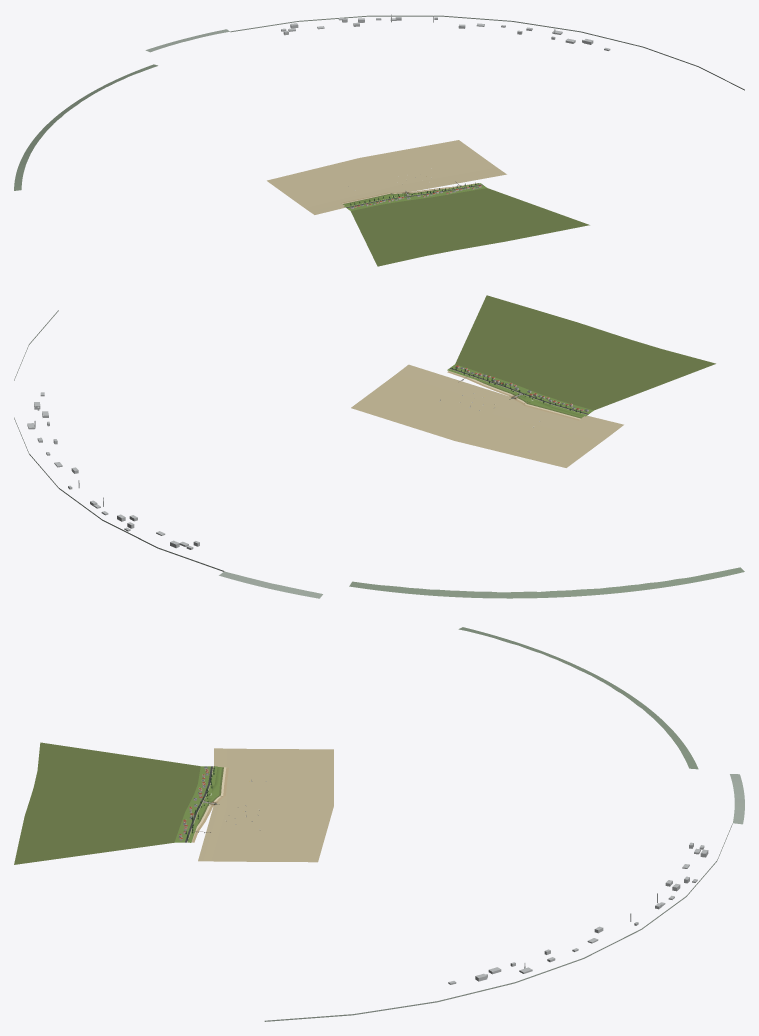
The model's file is venue.glb.
3 renders of one model, top to bottom at view 1: azimuth 30°, elevation 25°; view 2: azimuth 150°, elevation 25°; view 3: azimuth 270°, elevation 25°, orthographic. The views are drawn at different scales.
Visible parts, largest first — view 1: hinterland, seabed, industrial_shore_ne, garden_island, esplanade; view 2: hinterland, seabed, garden_island, industrial_shore_ne, esplanade, coast_far_north; view 3: hinterland, seabed, industrial_shore_ne, garden_island, esplanade.
Boxes of the visible parts, x1=… form: hinterland: x1=350, y1=188, x2=589, y2=266; seabed: x1=267, y1=140, x2=506, y2=214; industrial_shore_ne: x1=230, y1=14, x2=744, y2=90; garden_island: x1=14, y1=64, x2=157, y2=190; esplanade: x1=344, y1=183, x2=486, y2=210; hinterland: x1=455, y1=295, x2=715, y2=410; seabed: x1=351, y1=364, x2=623, y2=467; garden_island: x1=349, y1=567, x2=744, y2=598; industrial_shore_ne: x1=14, y1=310, x2=224, y2=571; esplanade: x1=447, y1=364, x2=593, y2=416; coast_far_north: x1=219, y1=571, x2=322, y2=598; hinterland: x1=14, y1=742, x2=200, y2=864; seabed: x1=198, y1=748, x2=333, y2=862; industrial_shore_ne: x1=264, y1=823, x2=732, y2=1021; garden_island: x1=458, y1=627, x2=698, y2=769; esplanade: x1=174, y1=766, x2=217, y2=842.
Bounding box in the file's own units: 4898 × 62.05 × 3832.
